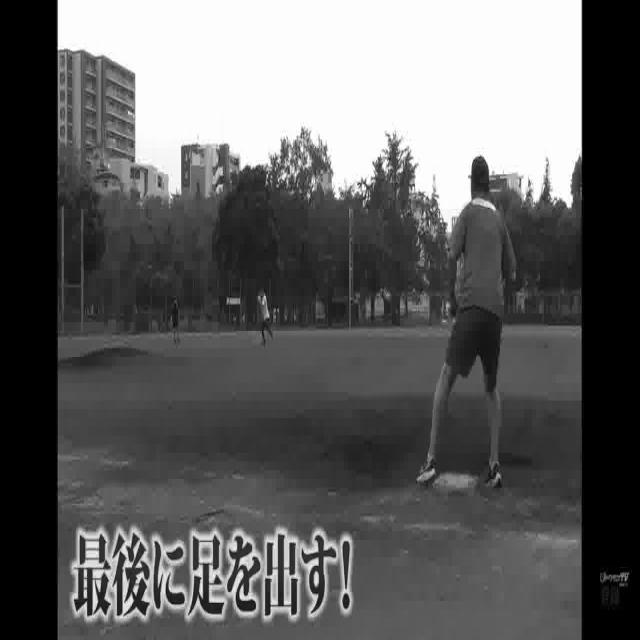base: (430, 472, 478, 492)
shoe: (416, 458, 438, 483), (484, 462, 503, 488)
